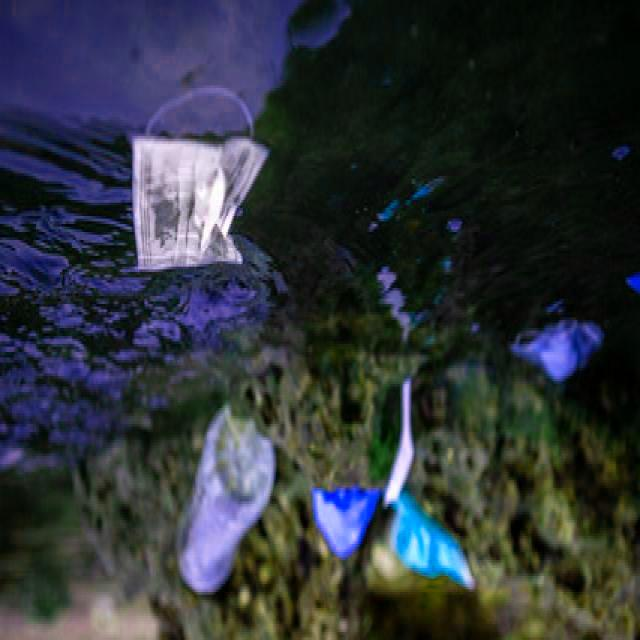Plastic: (176, 400, 279, 595)
Trash: (118, 88, 269, 270), (386, 496, 487, 592), (305, 474, 385, 571), (509, 317, 608, 385), (382, 374, 422, 514), (198, 274, 198, 276)
